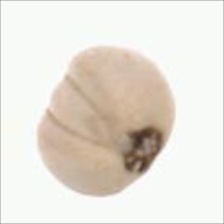L5: (46, 72, 122, 150), (122, 123, 166, 178)
L6: (34, 44, 177, 199)
